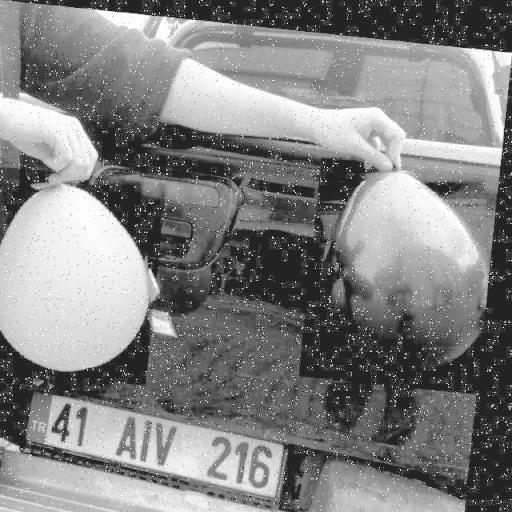balloon: (307, 150, 502, 384), (0, 165, 170, 381)
